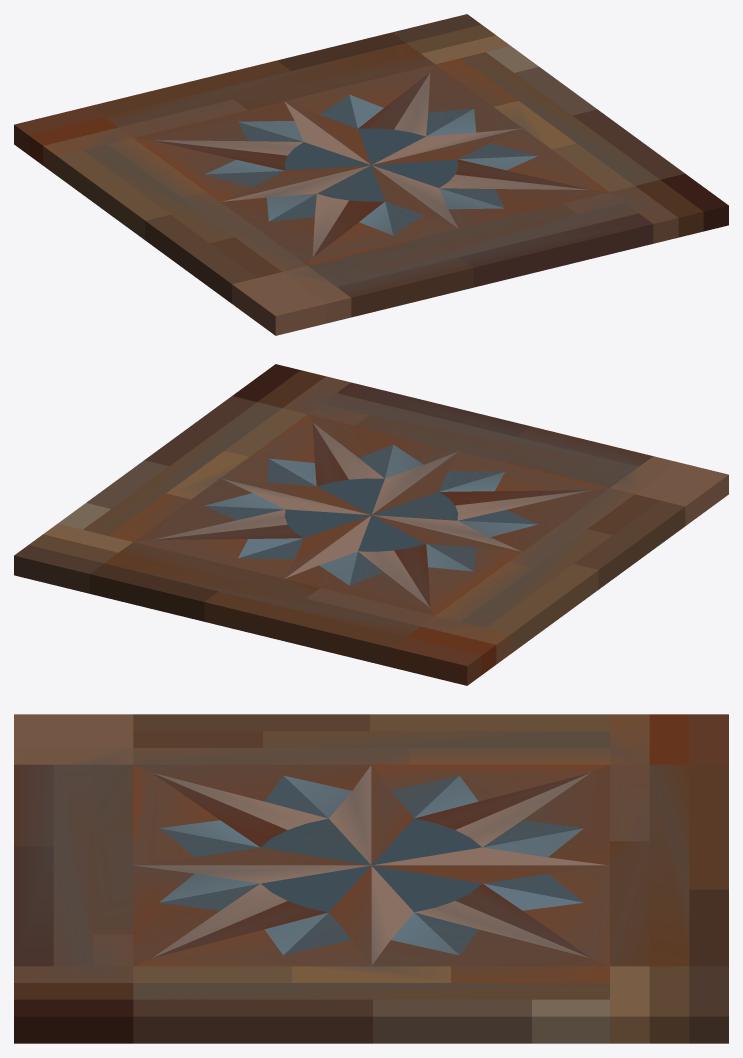
File: Floor_Compass-6m.fbx
3 views of the same model, one above another, from view 1: azimuth 30°, elevation 25°; view 2: azimuth 150°, elevation 25°; view 3: azimuth 270°, elevation 25° (orthographic). The views are drawn at different scales.
Visible parts, largest first — view 1: Floor_Compass-6m; view 2: Floor_Compass-6m; view 3: Floor_Compass-6m.
Part boxes in pixels (<box>): Floor_Compass-6m: <box>14,14,728,335</box>; Floor_Compass-6m: <box>14,364,728,685</box>; Floor_Compass-6m: <box>14,714,728,1043</box>.
Size of the model in its own units: 600 by 25 by 600.
